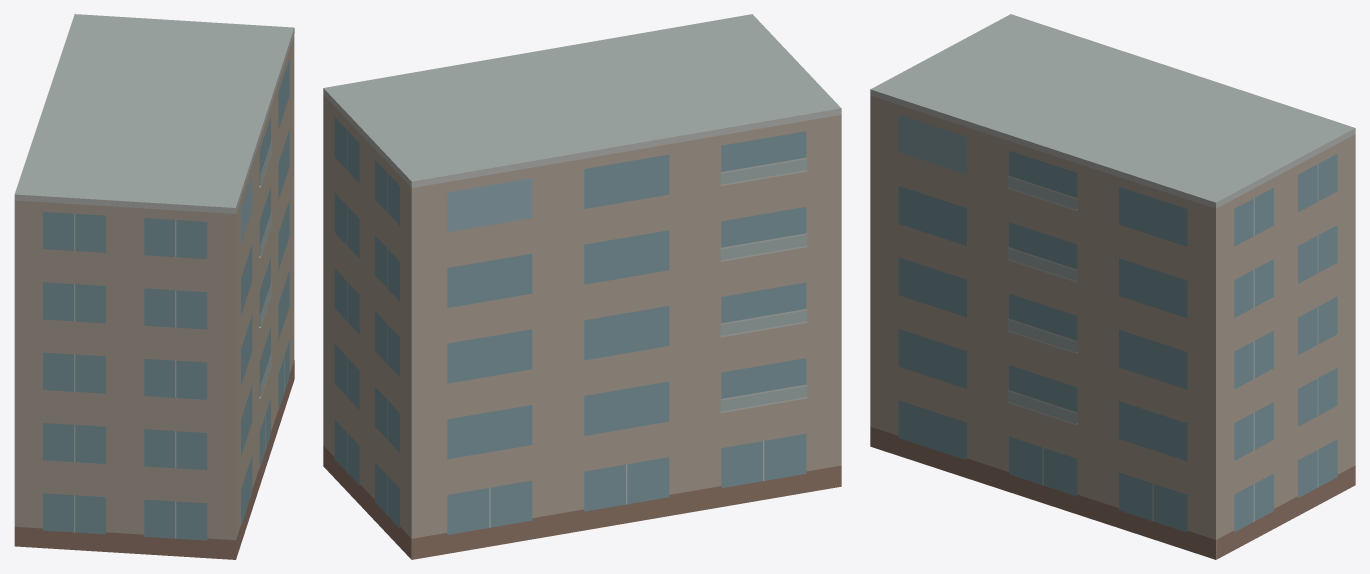
Rendered from survey-upis-32884755.glb.
3 renders of one model, left to right at view 1: azimuth 30°, elevation 25°; view 2: azimuth 150°, elevation 25°; view 3: azimuth 270°, elevation 25°, orthographic. The views are drawn at different scales.
Visible parts, largest first — view 1: survey-upis-32884755.tmp; view 2: survey-upis-32884755.tmp; view 3: survey-upis-32884755.tmp.
Boxes of the visible parts, <box> form: survey-upis-32884755.tmp: <box>14,14,294,559</box>; survey-upis-32884755.tmp: <box>323,14,841,559</box>; survey-upis-32884755.tmp: <box>870,14,1355,559</box>.
Bounding box in the file's own units: 16.21 × 14.3 × 17.62.
